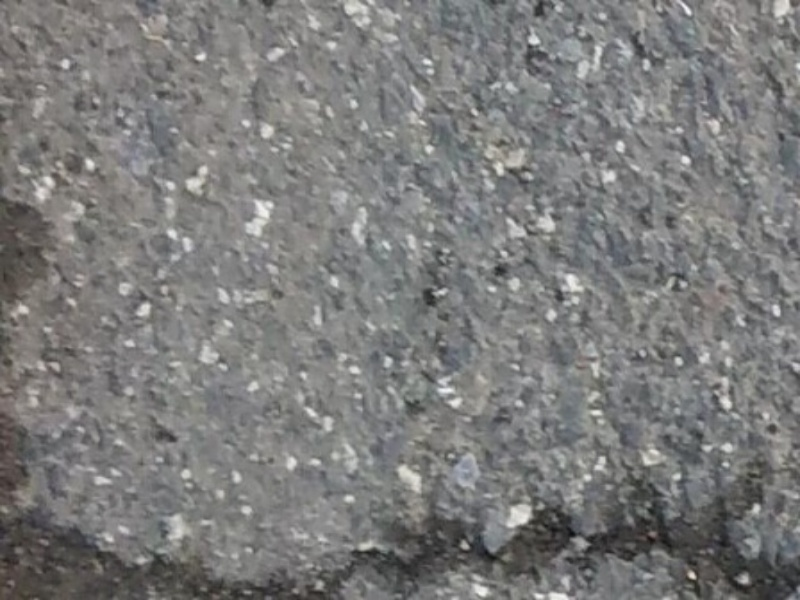crack: (313, 483, 791, 596)
